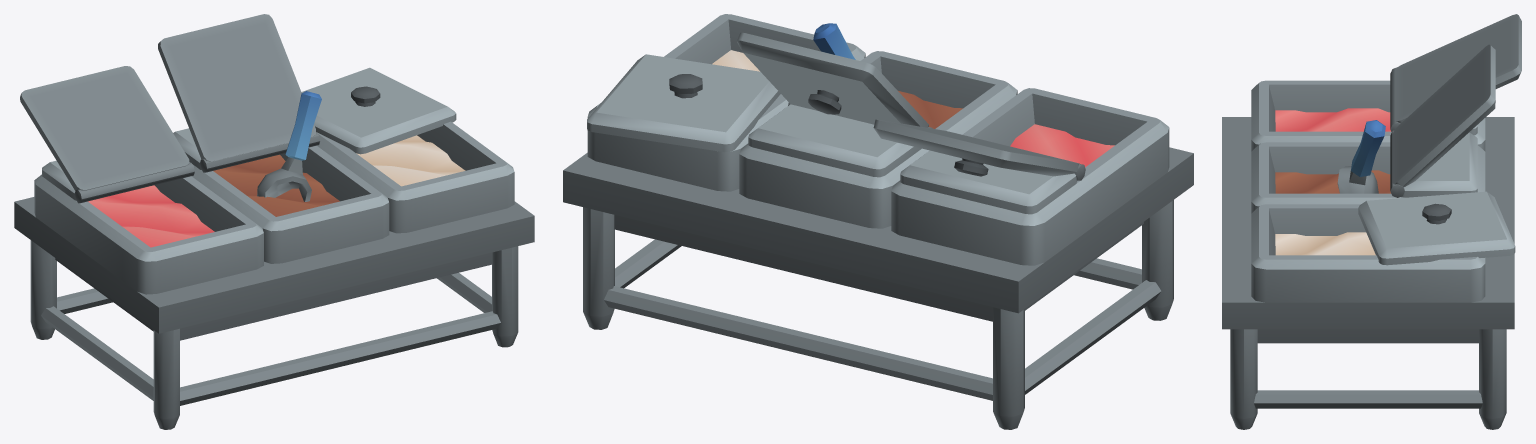
The model's file is kitchentable_A_large_decorated_C.obj.
3 renders of one model, left to right at view 1: azimuth 30°, elevation 25°; view 2: azimuth 150°, elevation 25°; view 3: azimuth 270°, elevation 25°, orthographic. The views are drawn at different scales.
Visible parts, largest first — view 1: kitchentable_A_large_decorated_C_Cube.458; view 2: kitchentable_A_large_decorated_C_Cube.458; view 3: kitchentable_A_large_decorated_C_Cube.458.
Part boxes in pixels (<box>): kitchentable_A_large_decorated_C_Cube.458: <box>14,14,534,429</box>; kitchentable_A_large_decorated_C_Cube.458: <box>563,14,1193,429</box>; kitchentable_A_large_decorated_C_Cube.458: <box>1222,14,1521,429</box>.
Size of the model in its own units: 3.01 by 2.06 by 2.05.
1 material, 1 textured.
